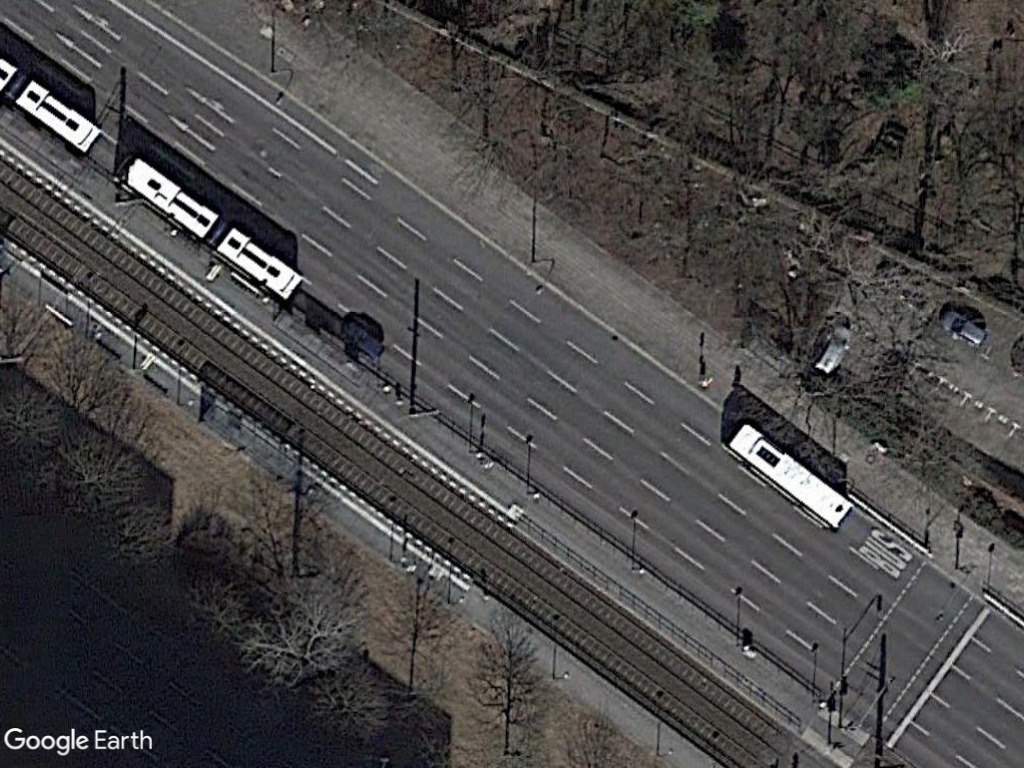bus: (721, 415, 857, 536), (111, 151, 224, 243), (4, 61, 105, 156), (215, 222, 314, 311)
car: (933, 304, 991, 352)
